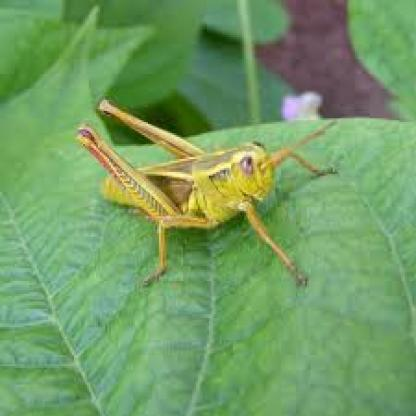grasshopper: (81, 90, 334, 272)
